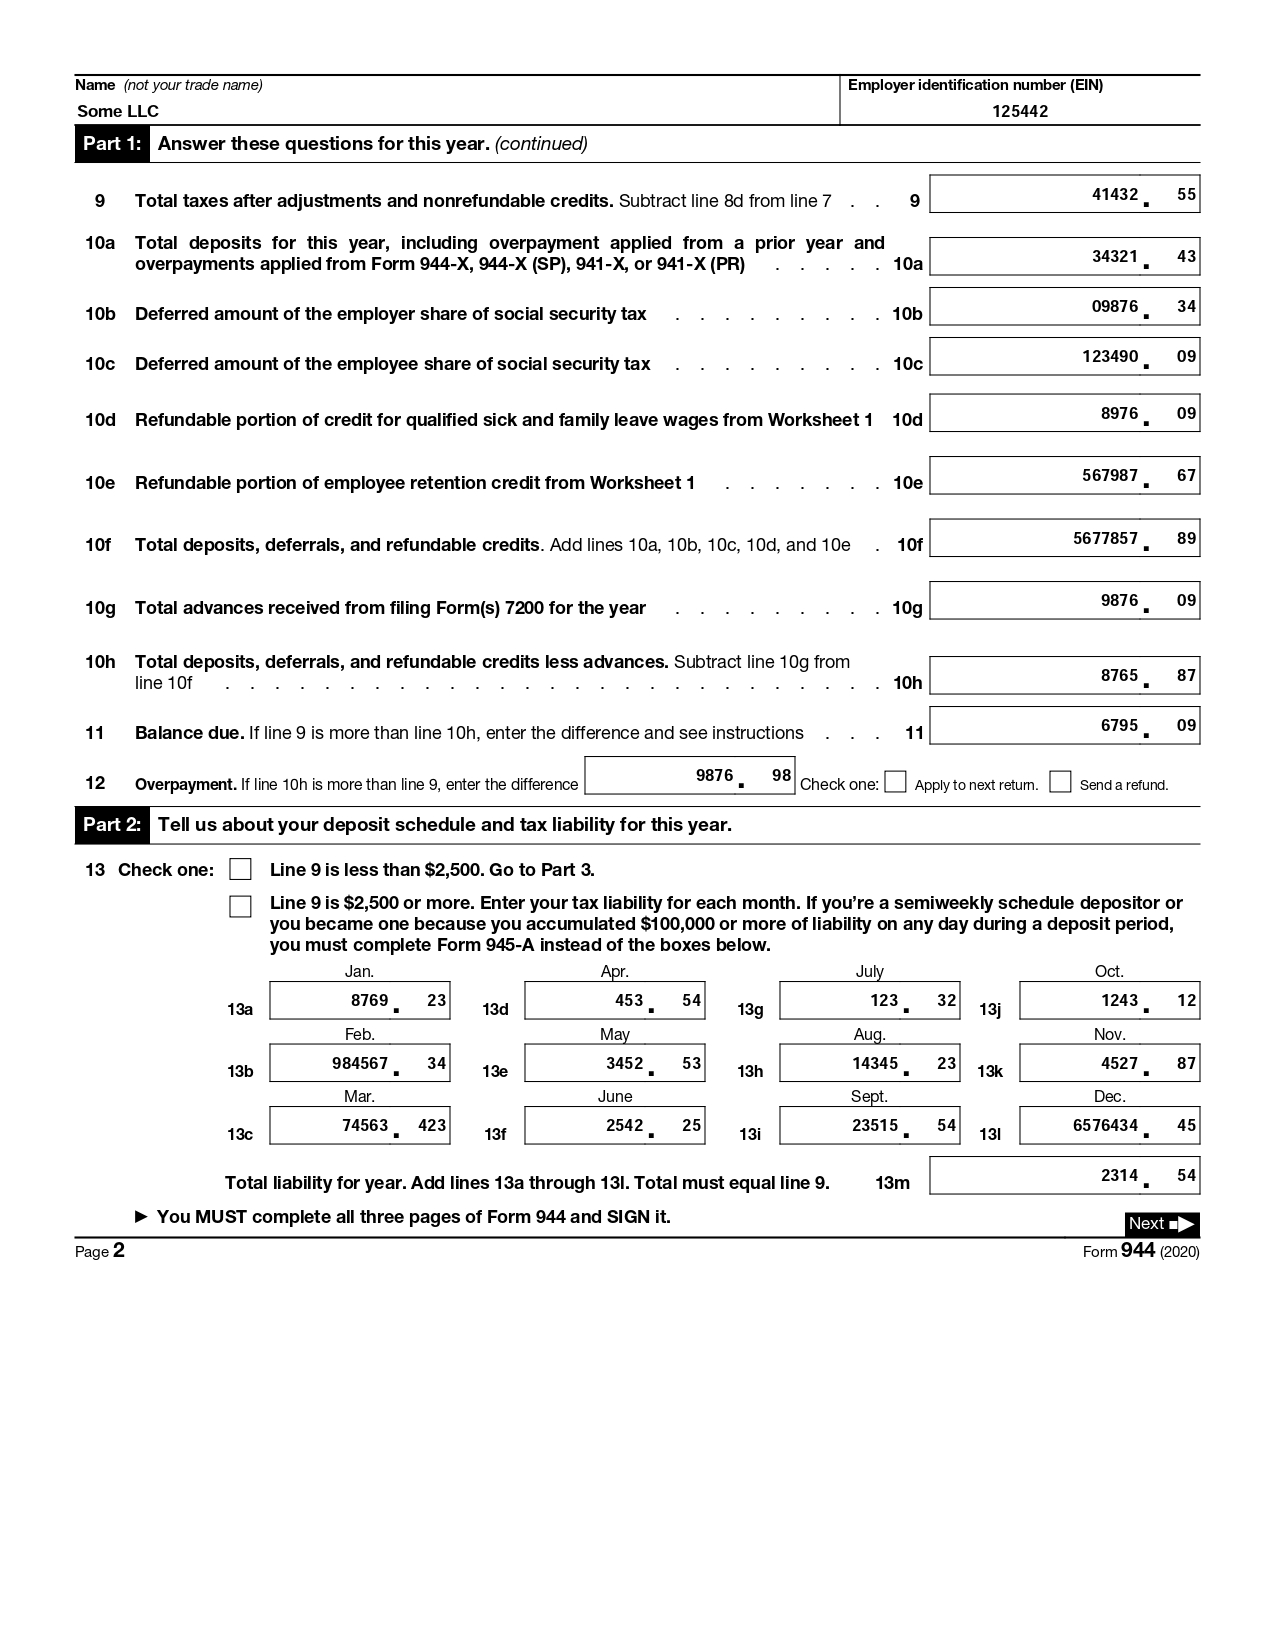form: (73, 850, 1231, 1205)
table: (75, 161, 1218, 798)
